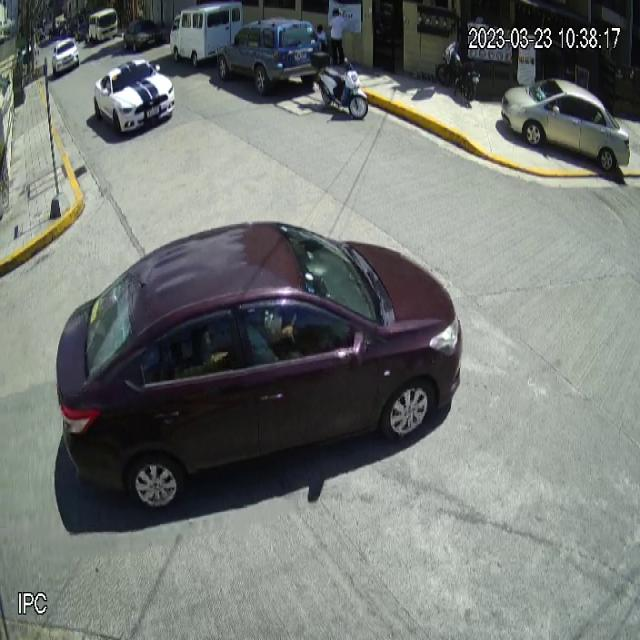Car: (52, 217, 467, 513), (500, 76, 632, 175), (216, 17, 322, 98), (92, 60, 176, 137)
Motorcycle: (311, 49, 371, 125)
Van: (169, 2, 244, 68)
